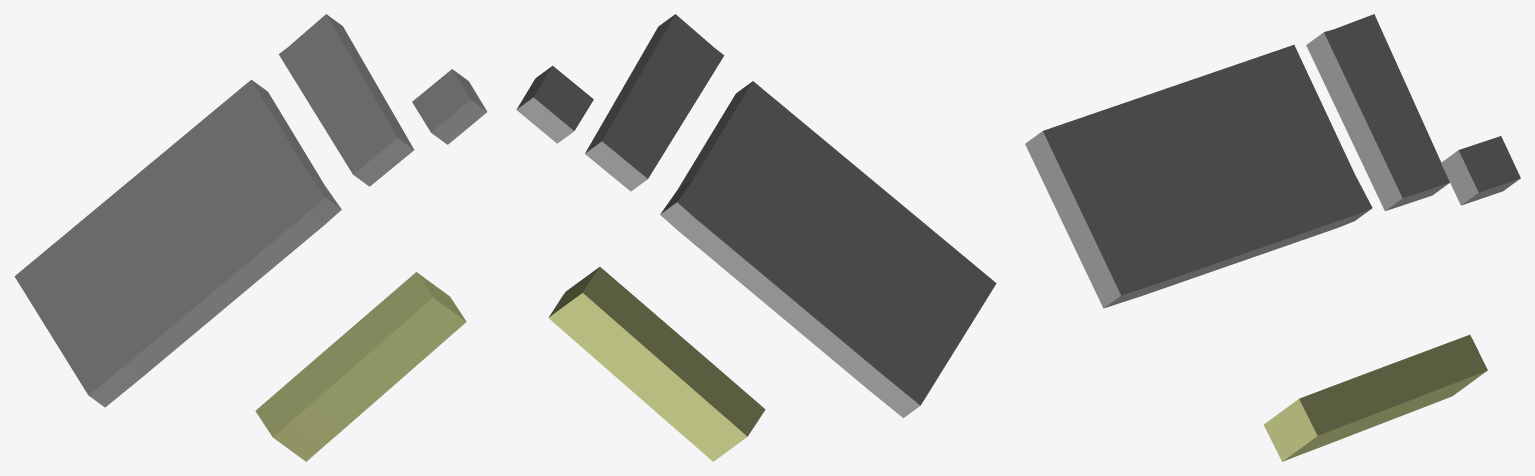
3 renders of one model, left to right at view 1: azimuth 30°, elevation 25°; view 2: azimuth 150°, elevation 25°; view 3: azimuth 330°, elevation 25°, orthographic. The views are drawn at different scales.
Visible parts, largest first — view 1: 0_1_2_0_0_1_3_1_2; view 2: 0_1_2_0_0_1_3_1_2; view 3: 0_1_2_0_0_1_3_1_2.
Boxes of the visible parts, bbox=[...] form: 0_1_2_0_0_1_3_1_2: bbox=[14, 14, 487, 461]; 0_1_2_0_0_1_3_1_2: bbox=[516, 14, 996, 461]; 0_1_2_0_0_1_3_1_2: bbox=[1025, 14, 1520, 461].
Bounding box in the file's own units: 46.96 × 40.63 × 6.
